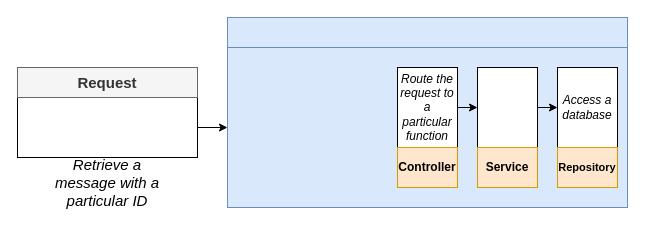
This 645x227 diagram has some shape labels left out. The shapes that lost their labels are listed below. From the top down, each one's box as (x1, y1, x2, y2) in pixels, then its label:
(226, 16, 628, 48): Server
(16, 96, 198, 158): GET localhost:3000/messages/:id
(476, 66, 538, 148): Run some business logic
